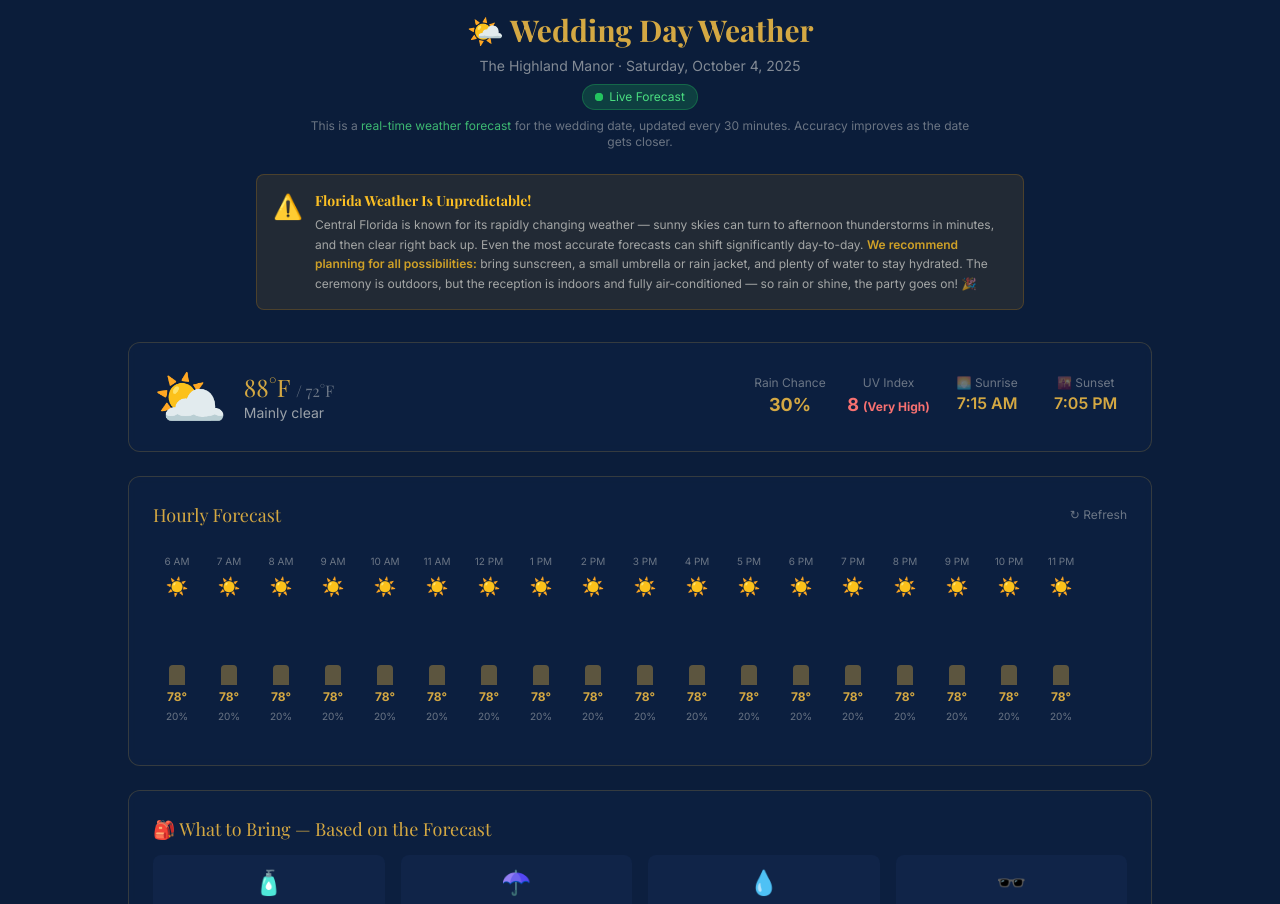
Test case: WeatherForecast › clicking hourly bar shows detail
Expected: the heading "Hourly Forecast" is shown, [153, 501, 281, 529]
Click the 1st text "78°" at point(177, 697), box [167, 689, 187, 705]
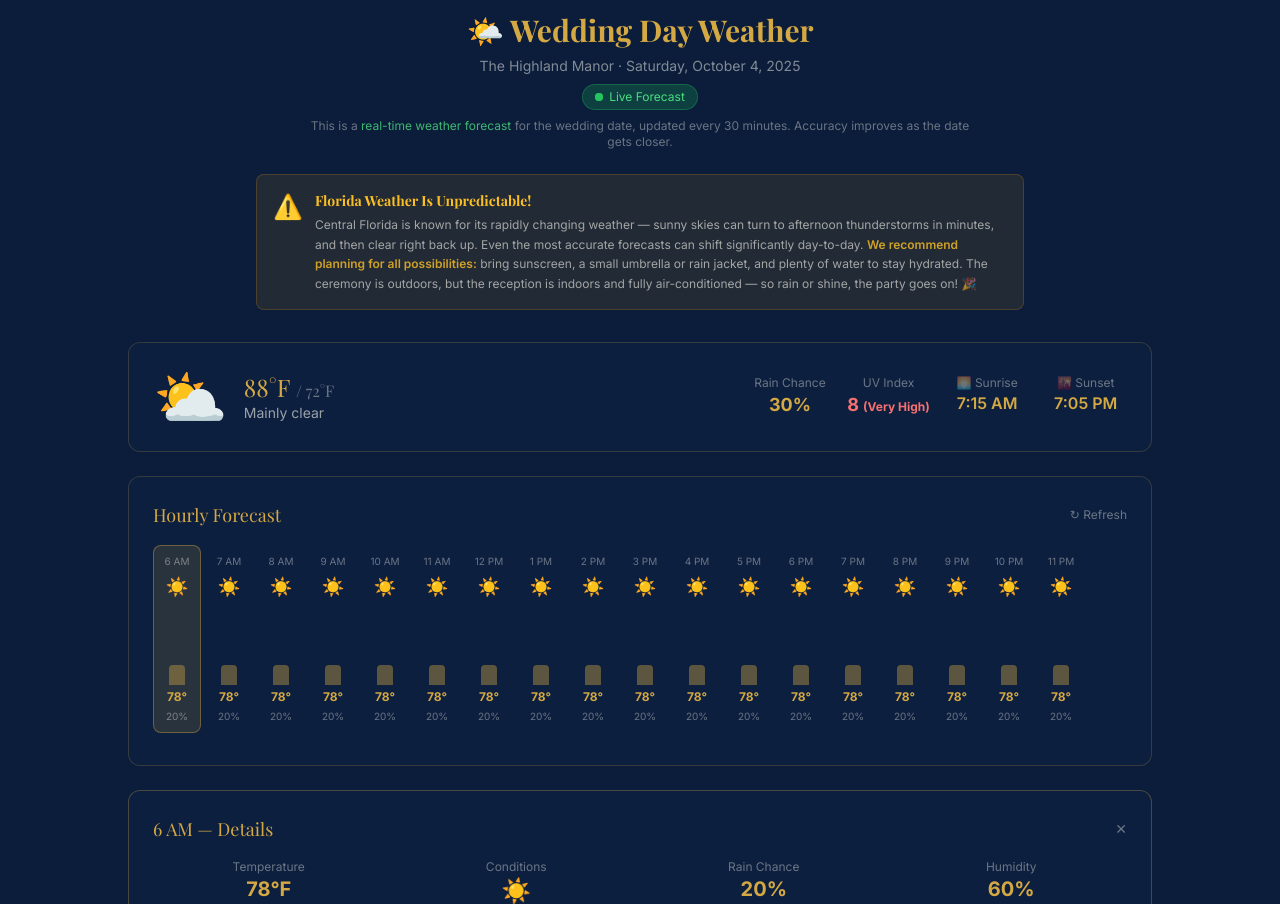
Now the heading "6 AM — Details" is shown, box [153, 815, 273, 843]
